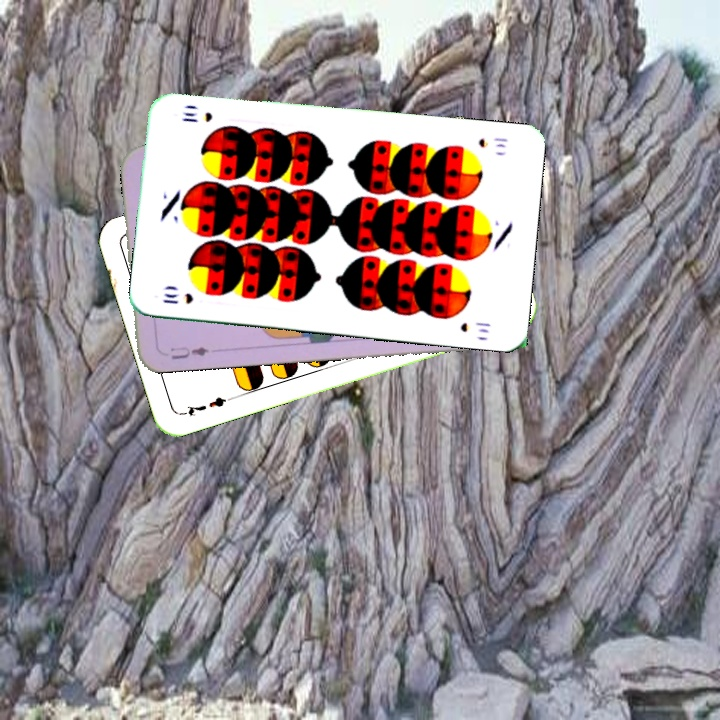E7: (178, 392, 236, 420)
EU: (166, 342, 211, 362)
S10: (158, 289, 196, 307), (474, 133, 510, 150)
